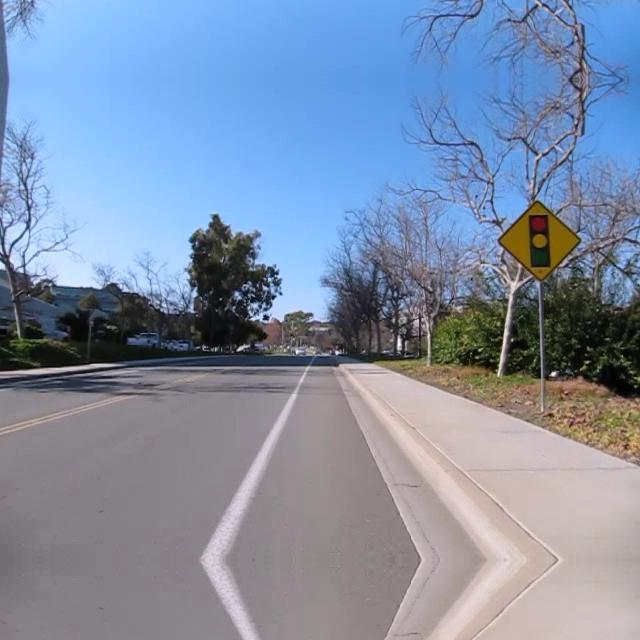signalAhead: (497, 198, 581, 282)
